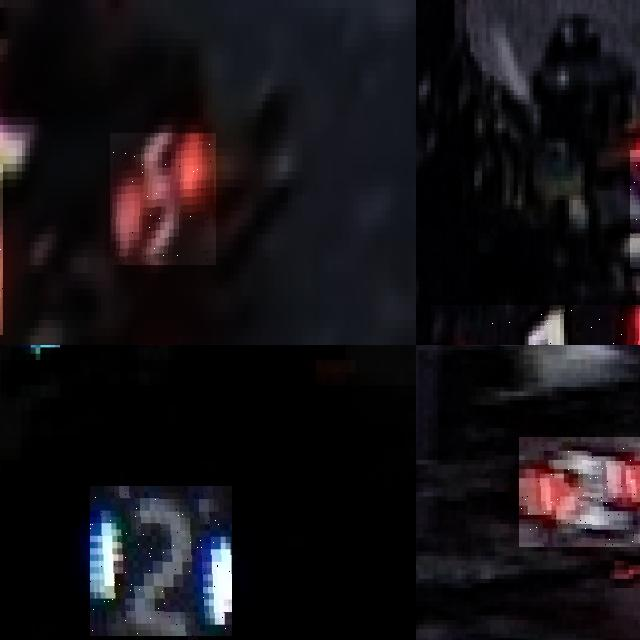B2: (90, 486, 232, 636)
R1: (431, 305, 640, 345)
R2: (518, 437, 640, 546)
R5: (110, 133, 216, 265)
